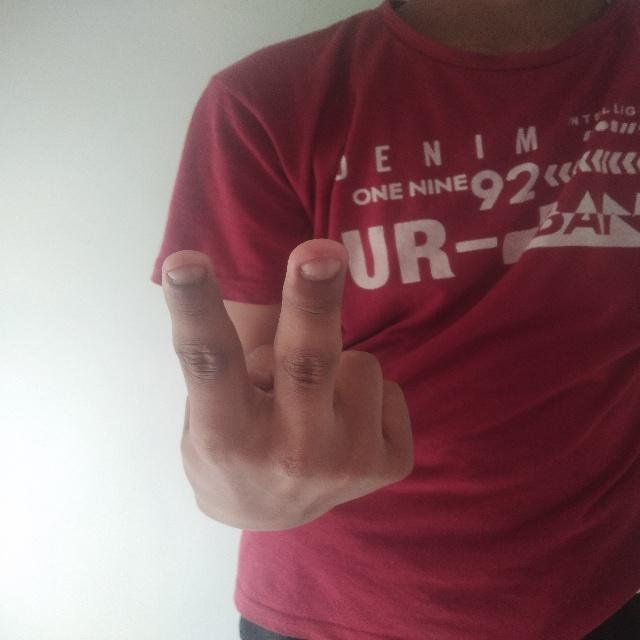Reversed Victory: (151, 229, 427, 545)
